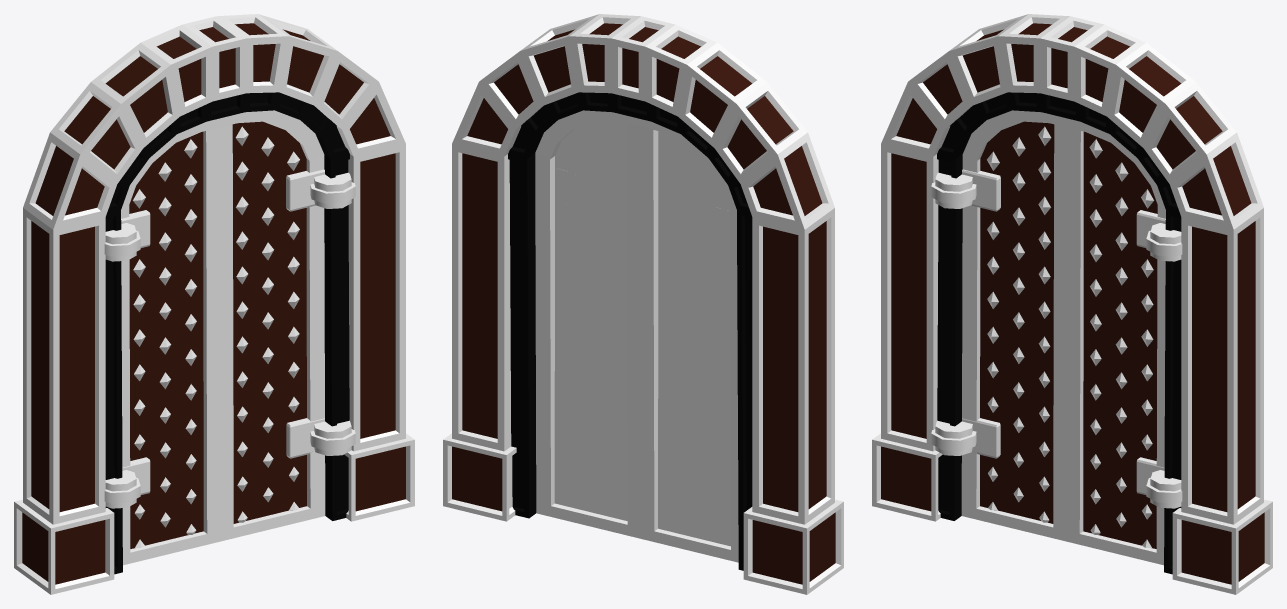
Rendered from UnwrappedLightningPuzzleDoor.fbx.
The picture shows the model from 3 angles, left to right: view 1: azimuth 30°, elevation 25°; view 2: azimuth 150°, elevation 25°; view 3: azimuth 330°, elevation 25°; orthographic projection.
Parts seen in each view (by area): view 1: LightningDoorInner1, Object044, Object043; view 2: LightningDoorInner1, Object044, Object043; view 3: LightningDoorInner1, Object043, Object044.
Part boxes in pixels (x1=…): LightningDoorInner1: x1=14, y1=14, x2=414, y2=594; Object044: x1=219, y1=110, x2=355, y2=541; Object043: x1=104, y1=118, x2=220, y2=565; LightningDoorInner1: x1=443, y1=14, x2=843, y2=594; Object044: x1=535, y1=110, x2=640, y2=538; Object043: x1=640, y1=119, x2=738, y2=562; LightningDoorInner1: x1=872, y1=14, x2=1272, y2=594; Object043: x1=931, y1=110, x2=1067, y2=541; Object044: x1=1066, y1=118, x2=1182, y2=565.
Bounding box in the file's own units: 206 × 274 × 40.11.
